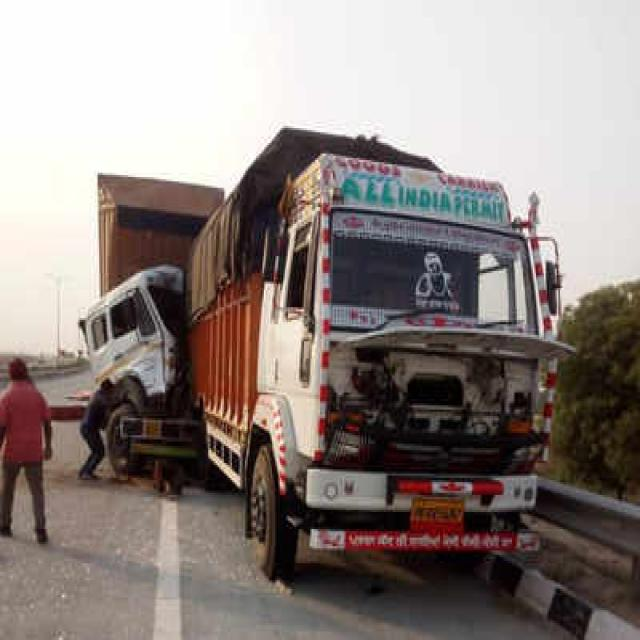accident: (79, 173, 224, 488)
truck: (190, 128, 564, 582)
